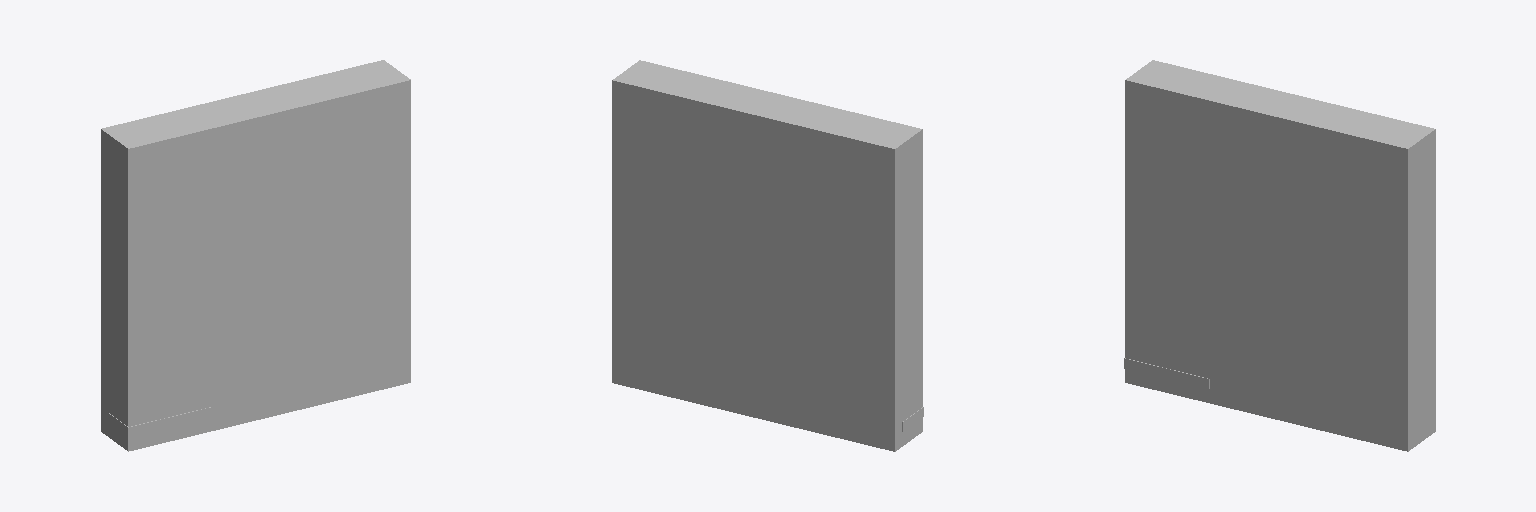
File: stair wall1.obj
3 renders of one model, left to right at view 1: azimuth 30°, elevation 25°; view 2: azimuth 150°, elevation 25°; view 3: azimuth 330°, elevation 25°, orthographic.
Parts seen in each view (by area): view 1: Part3, Part1; view 2: Part3; view 3: Part3, Part1.
Boxes of the visible parts, x1,y1,x2,y2 form: Part3: [101, 60, 410, 451]; Part1: [128, 407, 213, 437]; Part3: [612, 60, 922, 451]; Part3: [1125, 60, 1435, 451]; Part1: [1124, 358, 1209, 388].
Size of the model in its own units: 20.34 by 20.76 by 3.48.